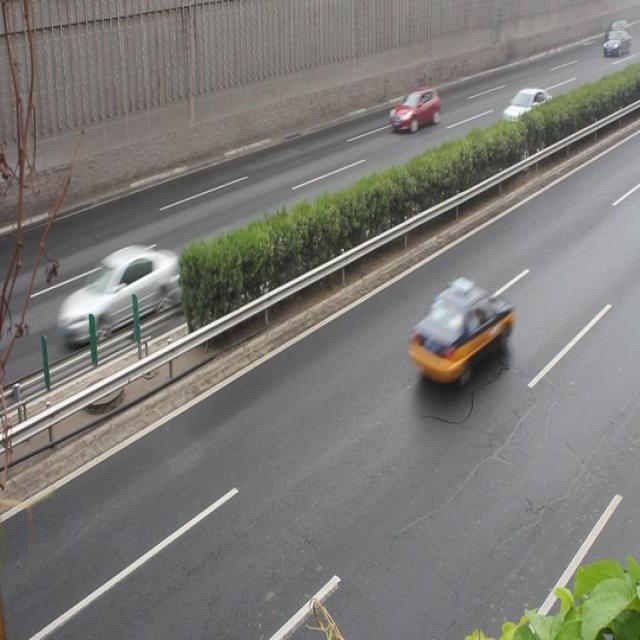car: (58, 246, 180, 343), (407, 283, 510, 384), (388, 88, 438, 138), (500, 87, 549, 135)
